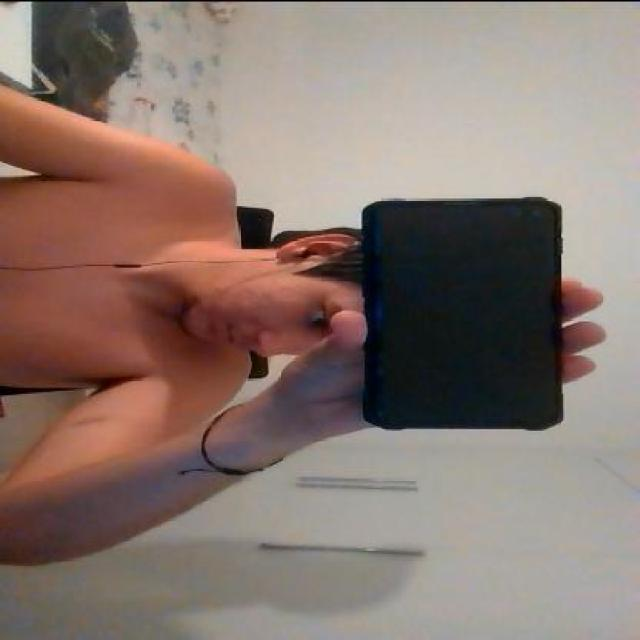phone: (357, 195, 566, 432)
